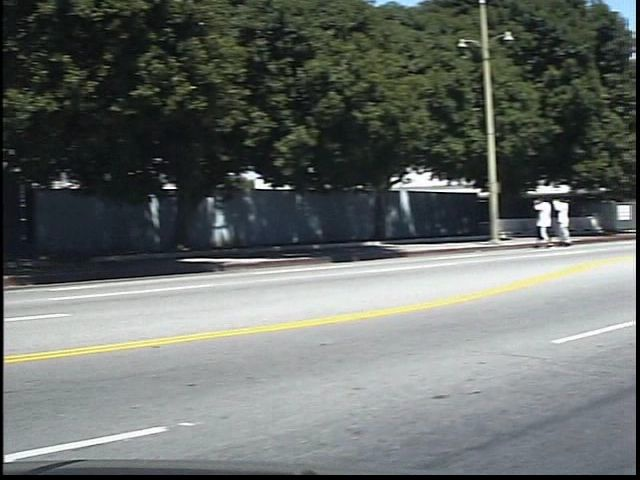person: (546, 190, 572, 253), (566, 192, 592, 251)
